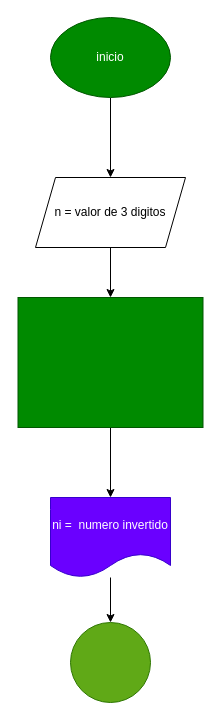
The diagram is 220 pixels wide and 720 high, and some of its shapes have lost their labels. The shapes that lost their labels are listed below. From the top down, each one's centre as x and y in pixels, then its label:
point 110,362: x = n% 10 y = n// 10 p = y% 10 q = n// 100 ni = x* 100 + p* 10 + q
point 110,662: fin
